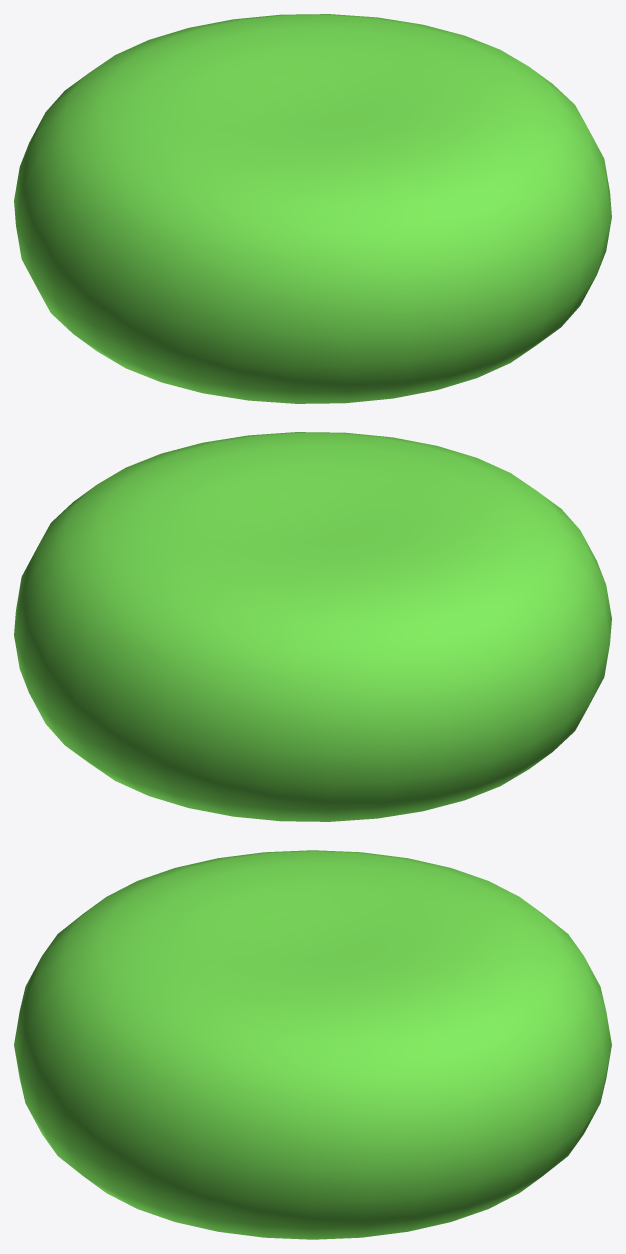
The model's file is ground_grass_mesh_final.fbx.
3 views of the same model, one above another, from view 1: azimuth 30°, elevation 25°; view 2: azimuth 150°, elevation 25°; view 3: azimuth 270°, elevation 25° (orthographic).
Parts seen in each view (by area): view 1: 球.001; view 2: 球.001; view 3: 球.001.
Boxes of the visible parts, x1,y1,x2,y2 form: 球.001: (14,14,611,403); 球.001: (14,432,611,821); 球.001: (14,850,611,1239).
Size of the model in its own units: 2 by 0.8218 by 2.
